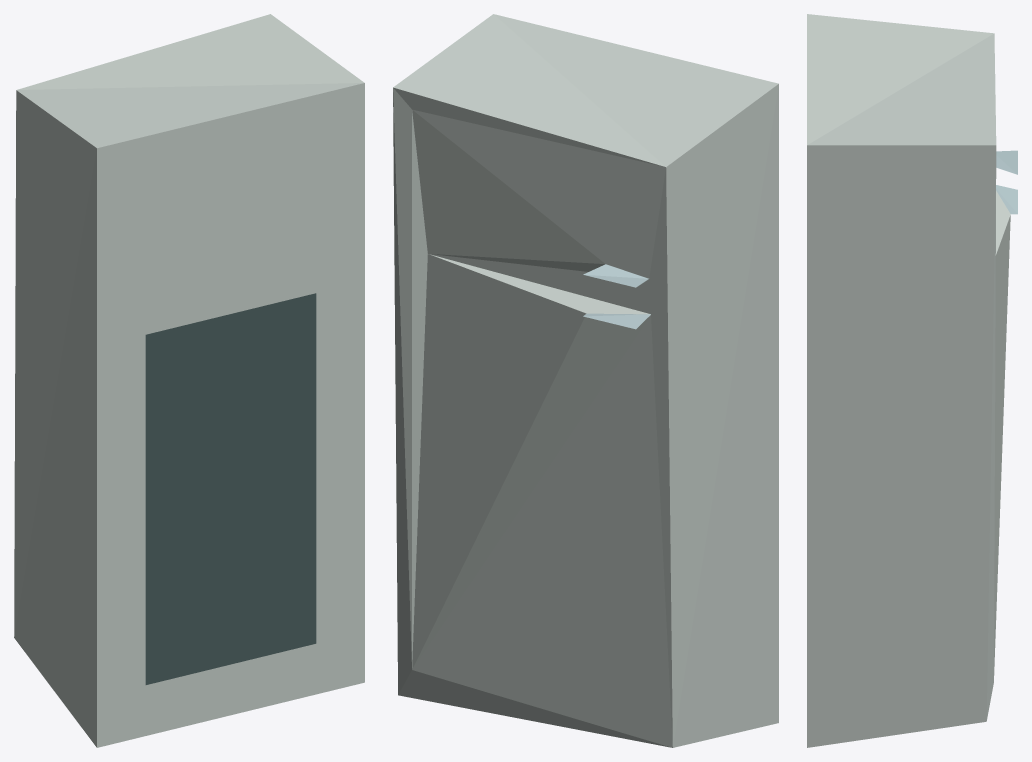
The model's file is kitchenFridge_vita.obj.
3 renders of one model, left to right at view 1: azimuth 30°, elevation 25°; view 2: azimuth 150°, elevation 25°; view 3: azimuth 270°, elevation 25°, orthographic. The views are drawn at different scales.
Bounding box in the file's own units: 0.43 × 0.92 × 0.2919.
